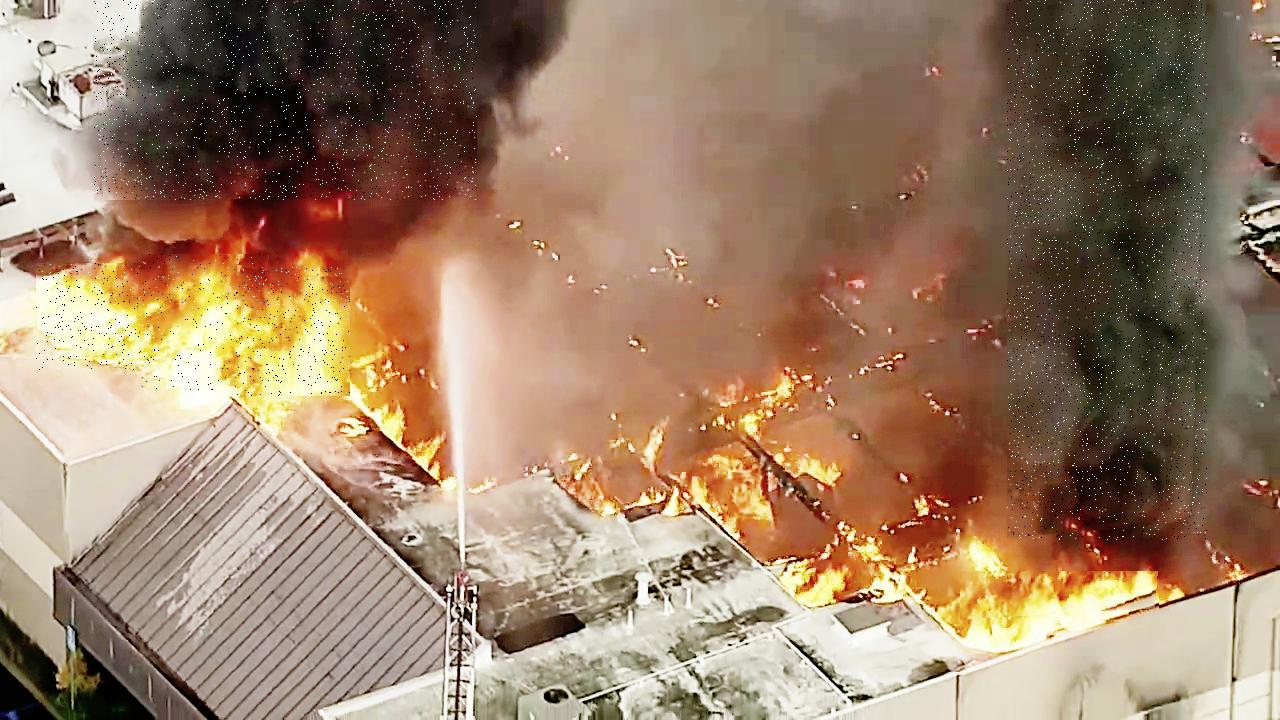fire: (142, 255, 270, 394), (237, 267, 350, 396), (37, 264, 164, 371), (960, 572, 1159, 623)
smoke: (1007, 0, 1207, 540), (94, 0, 477, 200)
